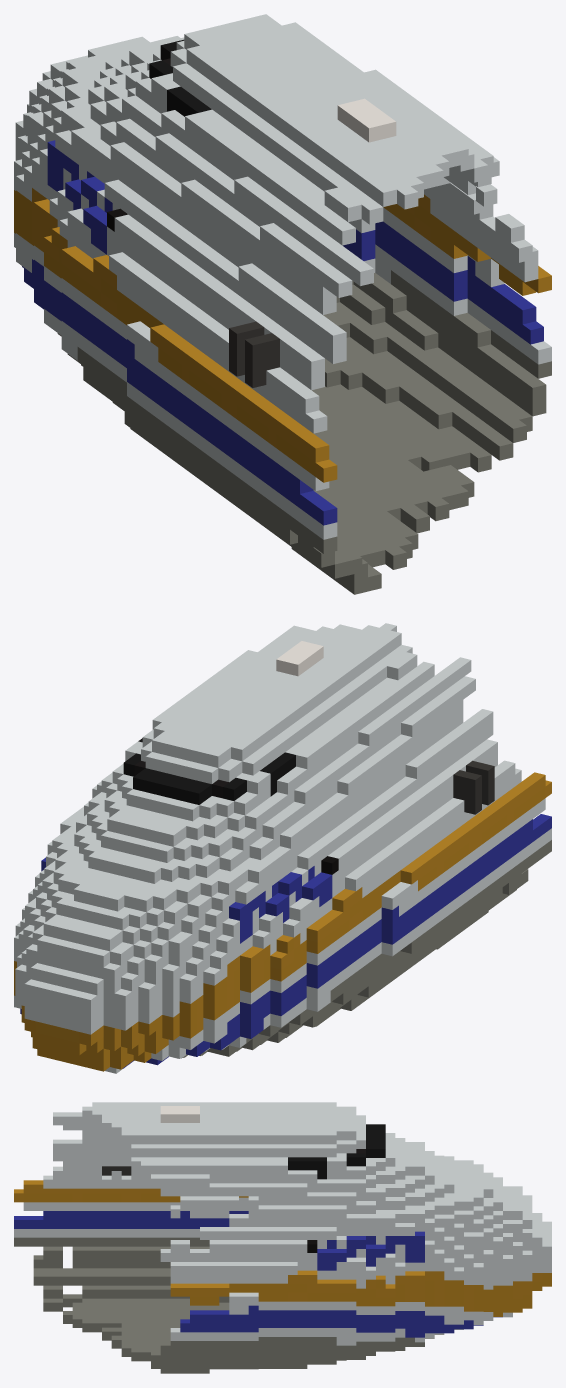
File: Airplane-6.obj
3 views of the same model, one above another, from view 1: azimuth 30°, elevation 25°; view 2: azimuth 150°, elevation 25°; view 3: azimuth 270°, elevation 25° (orthographic). The views are drawn at different scales.
Bounding box in the file's own units: 2.6 × 2.6 × 5.5.
Materials: 1 (1 with a texture image).
